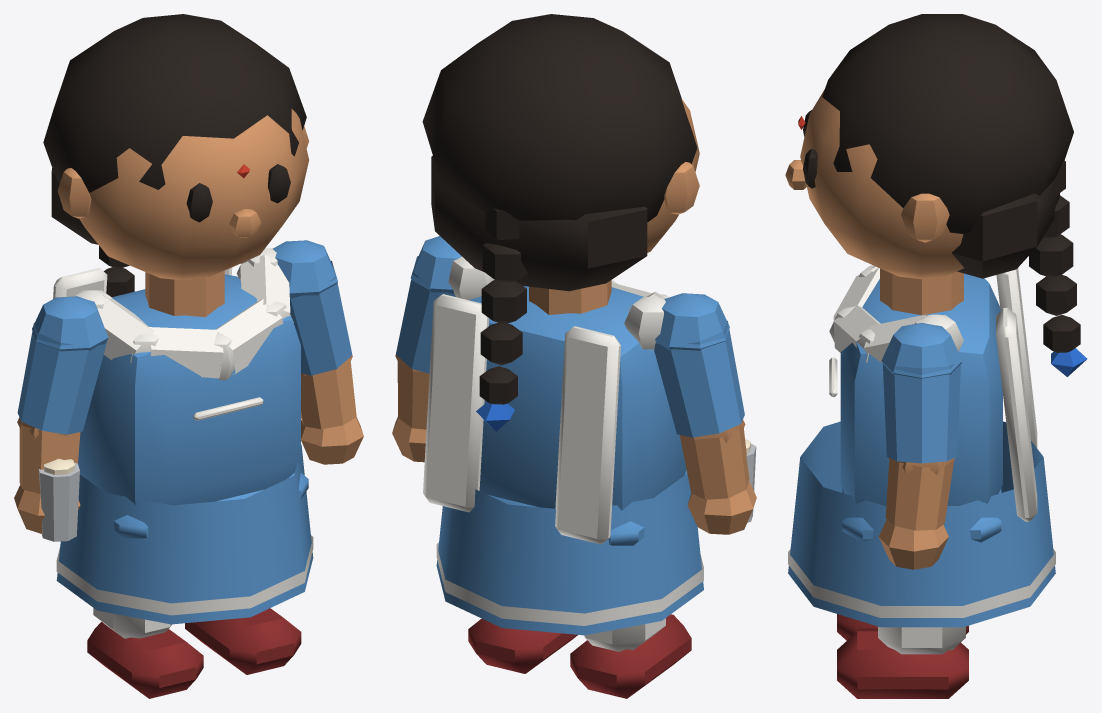
File: neetu.glb
3 renders of one model, left to right at view 1: azimuth 30°, elevation 25°; view 2: azimuth 150°, elevation 25°; view 3: azimuth 270°, elevation 25°, orthographic. The views are drawn at different scales.
Visible parts, largest first — view 1: body, head, arm_r, arm_l, leg_r, leg_l; view 2: body, head, arm_r, arm_l, leg_r, leg_l; view 3: head, body, arm_l, leg_l, leg_r.
Boxes of the visible parts, x1,y1,x2,y2 form: body: (53, 248, 313, 624); head: (43, 14, 308, 297); arm_r: (14, 296, 108, 541); arm_l: (273, 240, 363, 464); leg_r: (87, 608, 203, 698); leg_l: (185, 608, 301, 674); body: (423, 256, 703, 635); head: (422, 14, 699, 431); arm_r: (654, 293, 756, 534); arm_l: (392, 236, 461, 462); leg_r: (570, 614, 691, 698); leg_l: (468, 618, 577, 673); head: (785, 14, 1087, 376); body: (788, 265, 1055, 627); arm_l: (878, 323, 962, 569); leg_l: (837, 626, 968, 698); leg_r: (837, 614, 968, 640).
Size of the model in its own units: 0.5681 by 0.988 by 0.4246.
Materials: 1 (1 with a texture image).
